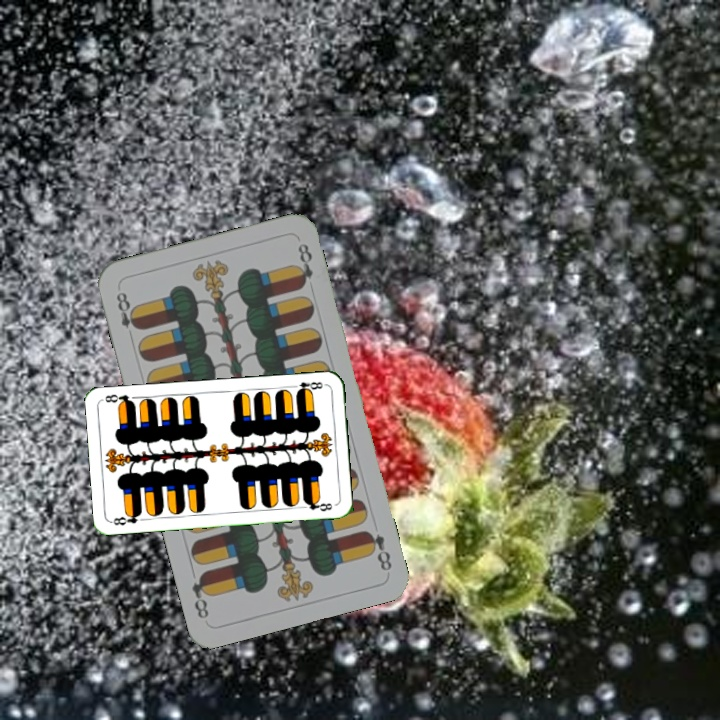E8: (361, 526, 395, 574), (112, 288, 143, 333), (287, 378, 328, 396), (108, 508, 144, 528)
